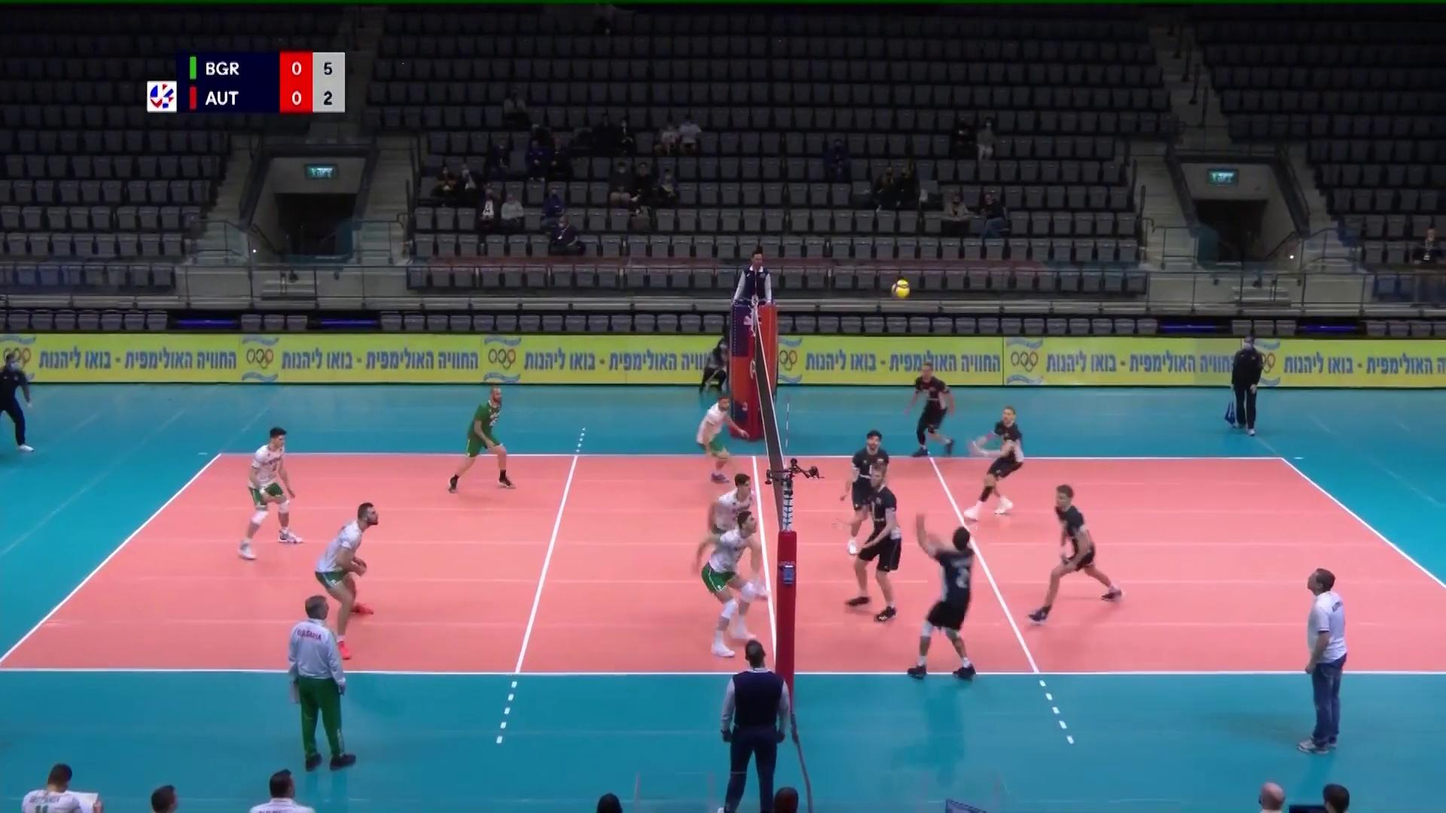ball: (889, 279, 912, 301)
